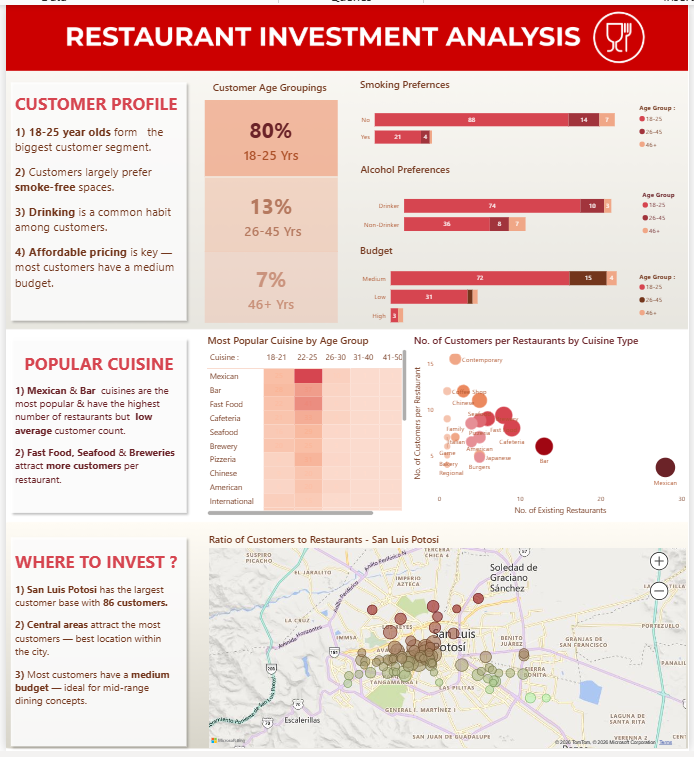

What the dashboard file says about the page in this screenshot:
{"tool":"powerbi","page":{"name":"Page 1","canvas":[1280,1400],"ordinal":0},"visuals":[{"type":"barChart","title":"Alcohol Preferences","fields":{"Category":["consumers.Drink_Level_Dashboard"],"Y":["CountNonNull(consumers.Consumer_ID)"],"Series":["consumers.Age Group"]},"box":[646,296,634,166],"z":0},{"type":"barChart","title":"Smoking Prefernces","fields":{"Category":["consumers.Smoker"],"Series":["consumers.Age Group"],"Y":["CountNonNull(consumers.Consumer_ID)"]},"box":[660,136,620,160],"z":1000},{"type":"textbox","box":[346,136,300,42],"z":2000},{"type":"card","fields":{"Values":["consumers.% 18-25"]},"box":[374.7,178,249.3,143.1],"z":2000,"group":"g1"},{"type":"group","id":"g1","title":"Group 1","box":[374,178,250,418],"z":3000},{"type":"card","fields":{"Values":["consumers.% 26-45"]},"box":[374,322.4,249.3,138.9],"z":3000,"group":"g1"},{"type":"shape","box":[0,135,347.5,465],"z":4000},{"type":"card","fields":{"Values":["consumers.% 46+"]},"box":[374,461.3,249.3,134.7],"z":4000,"group":"g1"},{"type":"textbox","box":[12.5,157.5,315,440],"z":5000},{"type":"barChart","title":"Budget","fields":{"Category":["consumers.Budget"],"Y":["CountNonNull(consumers.Consumer_ID)"],"Series":["consumers.Age Group"]},"box":[660,448,620,168],"z":6000},{"type":"pivotTable","title":"Most Popular Cuisine by Age Group","fields":{"Rows":["restaurant_cuisines.Cuisine"],"Values":["ratings.Customer Count"],"Columns":["consumers.Age_Group_Detailed"]},"box":[374,616,384,346],"z":7000},{"type":"scatterChart","title":"No. of Customers per Restaurants  by Cuisine Type","fields":{"Y":["ratings.Avg Customers Per Restaurant"],"Size":["ratings.Total Customers"],"Category":["restaurant_cuisines.Cuisine"],"Series":["restaurant_cuisines.Cuisine"],"X":["restaurant_cuisines.No. of Restaurants"]},"box":[760,617.5,520,345],"z":8000},{"type":"shape","box":[0,617.5,347.5,345],"z":9000},{"type":"textbox","box":[12.5,645,325,315],"z":10000},{"type":"shape","box":[0,990,347.5,410],"z":11000},{"type":"textbox","box":[12.5,1017.5,315,352.5],"z":12000},{"type":"map","title":"Ratio of Customers to Restaurants - San Luis Potosi","fields":{"Y":["restaurants.Latitude"],"X":["restaurants.Longitude"],"Size":["ratings.Customers Per Restaurant"]},"box":[375,990,905,410],"z":13000}]}

Visuals, with their boxes in screenshot pixels (x1, y1, x2, y2), scaled from the page's 1280x1400 canvas onto the 694x757 screenshot:
"Alcohol Preferences" barChart: [350,160,693,250]
"Smoking Prefernces" barChart: [358,74,693,160]
textbox: [188,74,350,96]
card - consumers.% 18-25: [203,96,338,174]
"Group 1" group: [203,96,338,322]
card - consumers.% 26-45: [203,174,338,249]
shape: [0,73,188,324]
card - consumers.% 46+: [203,249,338,322]
textbox: [7,85,178,323]
"Budget" barChart: [358,242,693,333]
"Most Popular Cuisine by Age Group" pivotTable: [203,333,411,520]
"No. of Customers per Restaurants  by Cuisine Type" scatterChart: [412,334,693,520]
shape: [0,334,188,520]
textbox: [7,349,183,519]
shape: [0,535,188,756]
textbox: [7,550,178,741]
"Ratio of Customers to Restaurants - San Luis Potosi" map: [203,535,693,756]
